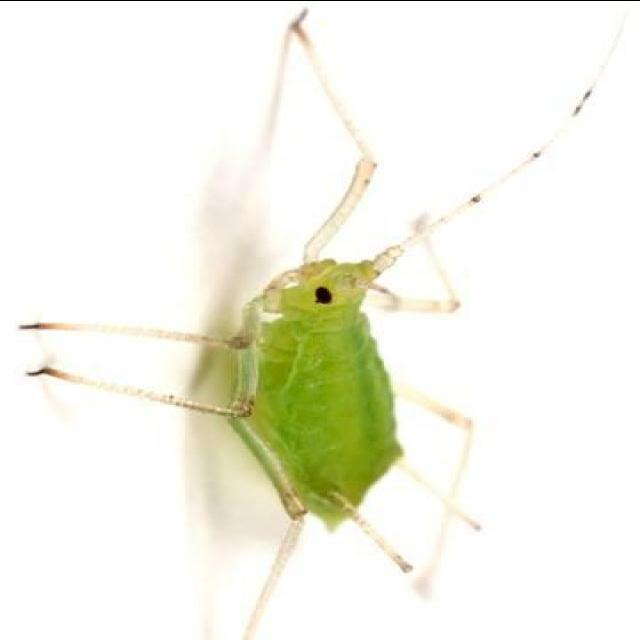aphid: (25, 33, 598, 624)
